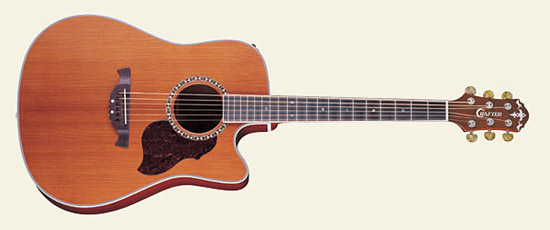guitar: (17, 13, 532, 218)
